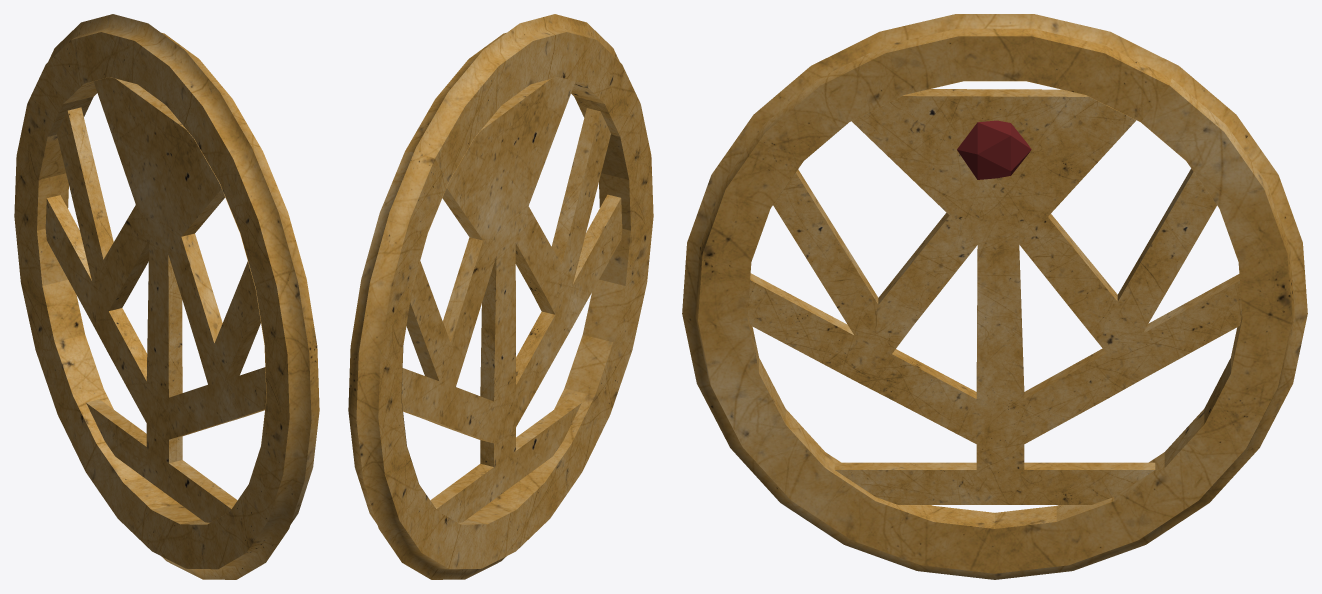
Rendered from medalhaocompleto.fbx.
The picture shows the model from 3 angles, left to right: view 1: azimuth 30°, elevation 25°; view 2: azimuth 150°, elevation 25°; view 3: azimuth 270°, elevation 25°; orthographic projection. The views are drawn at different scales.
Parts seen in each view (by area): view 1: pCylinder1, pCube1; view 2: pCylinder1, pCube1; view 3: pCylinder1, pCube1, pPlatonic1.
Part boxes in pixels (x1,y1,x2,y2): pCylinder1: (14, 14, 319, 579); pCube1: (45, 77, 266, 522); pCylinder1: (348, 14, 653, 579); pCube1: (401, 77, 622, 522); pCylinder1: (682, 14, 1307, 579); pCube1: (747, 89, 1242, 504); pPlatonic1: (957, 120, 1031, 179).
Bounding box in the file's own units: 0.2137 × 3.36 × 3.36.
